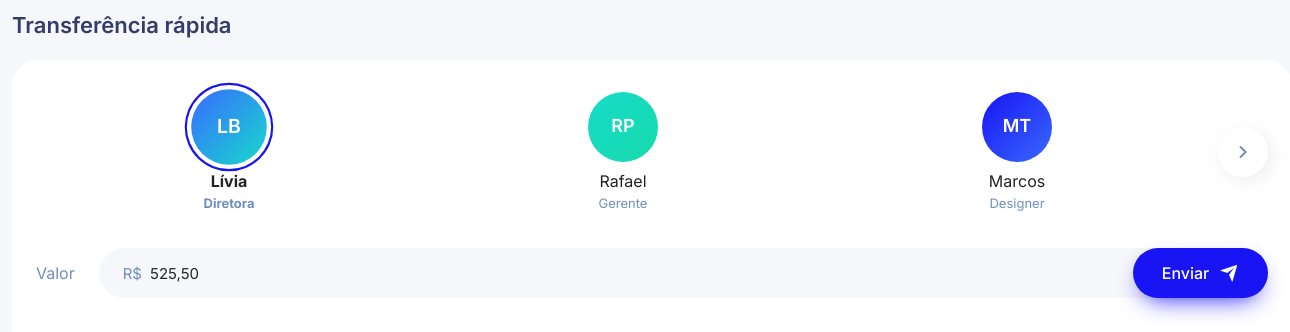
mostra três contatos e anda com a seta
Expected: the button "LB Lívia Diretora" is shown, [36, 84, 422, 220]
Click the button named "Mais contatos".
click(1243, 152)  # box [1218, 127, 1268, 177]
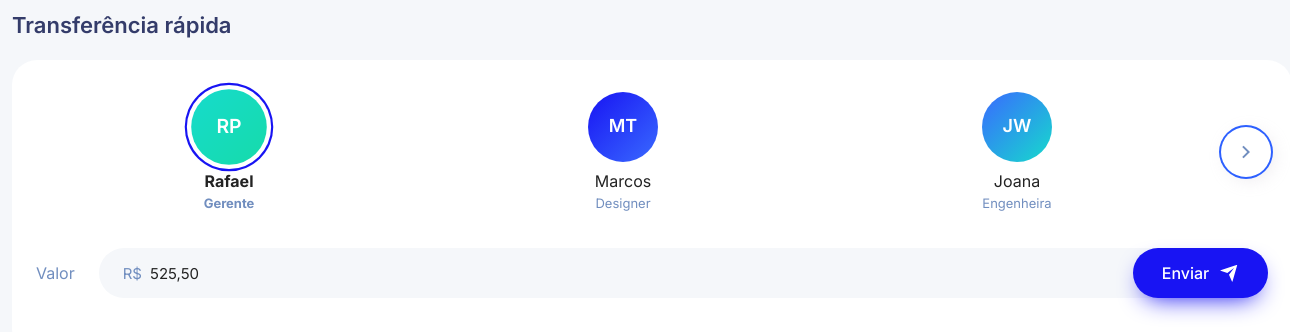
Expected: the text "Joana" is shown, [994, 170, 1040, 193]
